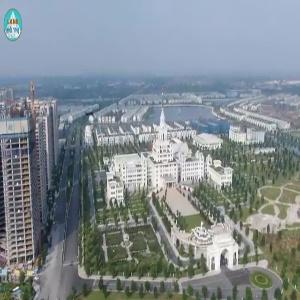drone: (74, 100, 107, 133)
